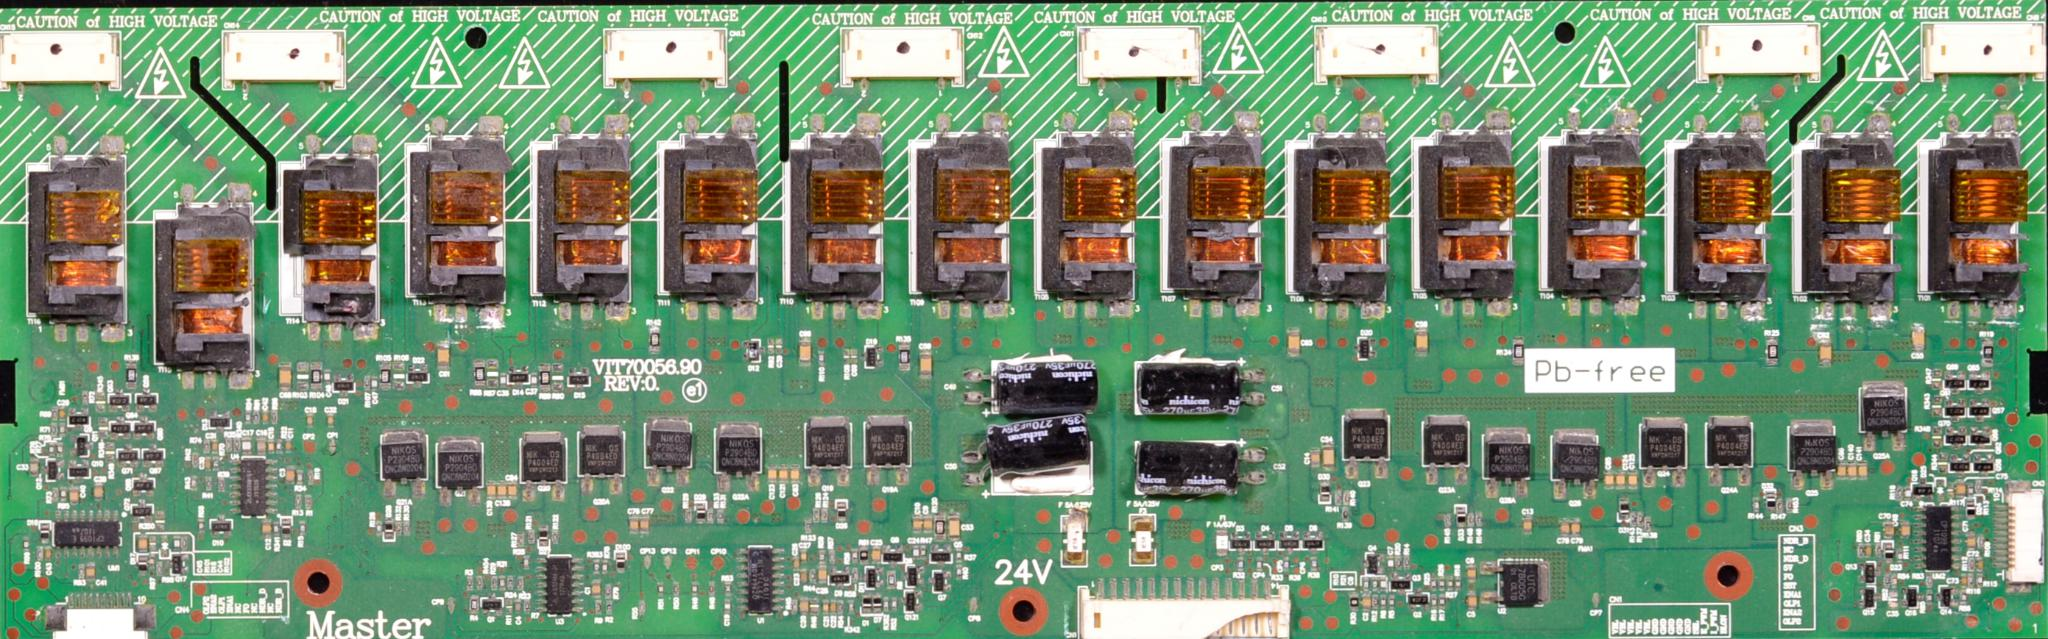Capacitor Jumper: (980, 421, 1093, 494), (1132, 442, 1259, 500), (981, 359, 1101, 418), (1138, 362, 1267, 414), (1910, 323, 1924, 355), (921, 352, 935, 382), (434, 345, 451, 370), (1818, 342, 1834, 369), (1415, 328, 1429, 355), (1287, 328, 1301, 353), (278, 365, 293, 389), (947, 517, 964, 538), (588, 578, 603, 598), (799, 337, 812, 362), (1569, 516, 1583, 537), (1323, 443, 1335, 468), (1307, 447, 1320, 469), (1557, 516, 1569, 538), (1886, 589, 1899, 609), (1951, 481, 1968, 495), (1881, 520, 1895, 537), (1463, 566, 1479, 580), (85, 561, 95, 582), (1614, 468, 1626, 486), (1627, 470, 1639, 489), (1520, 515, 1532, 533), (910, 516, 922, 534), (260, 517, 272, 536), (1360, 591, 1371, 609), (27, 457, 40, 473), (1963, 531, 1976, 546), (1464, 592, 1477, 608), (485, 482, 496, 499), (496, 482, 508, 499), (627, 515, 639, 532), (922, 516, 934, 533), (1604, 468, 1613, 489), (136, 533, 146, 551), (789, 465, 801, 481), (1847, 459, 1857, 476), (285, 465, 295, 482), (765, 465, 777, 480), (1378, 575, 1390, 589), (722, 597, 734, 612), (912, 548, 922, 563), (1836, 457, 1846, 474), (778, 467, 788, 483), (818, 565, 827, 582), (171, 536, 182, 550), (529, 374, 538, 389), (325, 412, 334, 427), (69, 487, 78, 503), (1899, 520, 1908, 536), (1394, 551, 1401, 570), (799, 597, 808, 613), (260, 410, 270, 423), (94, 482, 102, 499), (871, 545, 879, 562), (320, 369, 329, 383), (819, 600, 828, 614), (850, 349, 858, 365), (212, 438, 219, 453), (1859, 460, 1866, 476), (508, 481, 516, 497), (204, 456, 213, 469), (1958, 572, 1967, 585), (499, 372, 507, 387), (306, 413, 315, 425), (775, 338, 781, 354), (59, 406, 65, 422), (1403, 554, 1409, 570), (268, 439, 274, 453), (44, 545, 51, 559), (799, 549, 806, 562), (515, 601, 521, 614), (285, 440, 293, 451), (1865, 542, 1870, 558), (371, 376, 377, 388), (640, 516, 647, 528), (829, 602, 836, 614), (1977, 558, 1983, 571), (793, 555, 799, 565), (801, 571, 805, 582)
IC: (739, 542, 782, 618), (1913, 503, 1960, 571), (54, 511, 120, 558), (537, 554, 583, 617), (231, 456, 276, 516), (1497, 555, 1549, 606)
Resistor Jumper: (1762, 336, 1782, 369), (1979, 338, 1994, 369), (486, 361, 500, 388), (380, 361, 393, 389), (311, 362, 324, 391), (296, 363, 310, 392), (537, 365, 551, 391), (551, 365, 564, 393), (393, 361, 405, 389), (125, 365, 138, 389), (1749, 495, 1762, 520), (474, 359, 486, 385), (649, 327, 661, 352), (935, 516, 947, 541), (1930, 393, 1942, 417), (897, 342, 909, 365), (1930, 427, 1944, 447), (1937, 453, 1947, 476), (1347, 591, 1360, 608), (104, 440, 115, 461), (98, 417, 110, 435), (1334, 487, 1344, 507), (1627, 510, 1638, 529), (1894, 544, 1904, 563), (1236, 554, 1249, 570), (1307, 553, 1318, 572), (95, 389, 104, 412), (1975, 531, 1985, 549), (1358, 575, 1370, 591), (402, 519, 411, 538), (1437, 595, 1446, 614), (1932, 370, 1942, 387), (1637, 508, 1644, 531), (859, 546, 869, 565), (1386, 551, 1395, 570), (469, 596, 478, 614), (841, 348, 852, 363), (1340, 508, 1351, 524), (1853, 542, 1864, 558), (1253, 555, 1263, 571), (1925, 588, 1933, 609), (1428, 595, 1438, 610), (765, 338, 775, 355), (1341, 489, 1351, 506), (1465, 511, 1475, 528), (1642, 515, 1651, 532), (22, 536, 31, 553), (807, 568, 816, 585), (887, 568, 896, 585), (505, 574, 515, 591), (724, 580, 733, 597), (306, 491, 313, 511), (197, 516, 205, 536), (188, 476, 197, 491), (293, 493, 300, 511), (850, 546, 858, 565), (828, 548, 836, 566), (1280, 555, 1289, 571), (1309, 557, 1318, 572), (1429, 578, 1438, 593), (691, 582, 700, 597), (1959, 587, 1967, 605), (596, 600, 605, 615), (639, 601, 648, 617), (307, 468, 313, 489), (1475, 510, 1481, 531), (1369, 575, 1379, 588), (1371, 591, 1378, 612), (225, 435, 232, 452), (51, 486, 59, 503), (519, 531, 526, 548), (499, 574, 507, 591), (1388, 595, 1396, 612), (505, 597, 513, 614), (204, 476, 213, 490), (217, 478, 226, 493), (818, 549, 827, 563), (953, 566, 963, 580), (475, 575, 485, 589), (394, 517, 401, 537), (1446, 574, 1452, 593), (1454, 574, 1460, 593), (232, 436, 240, 452), (274, 436, 282, 452), (1967, 478, 1975, 494), (59, 486, 67, 502), (811, 507, 819, 523), (375, 520, 383, 536), (1872, 541, 1880, 557), (77, 562, 85, 578), (852, 566, 859, 582), (674, 580, 682, 596), (816, 352, 825, 365), (528, 529, 537, 542), (590, 559, 600, 572), (883, 596, 889, 614), (1439, 572, 1445, 595), (50, 421, 57, 435), (1895, 486, 1903, 500), (822, 507, 829, 521), (717, 507, 725, 521), (1891, 572, 1899, 587), (1967, 574, 1975, 588), (465, 575, 473, 589), (515, 575, 522, 589), (707, 579, 714, 593), (1775, 497, 1782, 514), (921, 544, 927, 561), (657, 580, 664, 597), (524, 597, 530, 614), (1379, 592, 1384, 613), (81, 391, 89, 404), (51, 406, 59, 419), (251, 412, 259, 425), (298, 469, 304, 485), (1974, 480, 1981, 493), (273, 520, 280, 536), (550, 529, 558, 542), (1976, 574, 1984, 587), (891, 597, 897, 613), (605, 601, 613, 614), (811, 601, 819, 614), (1445, 511, 1450, 529), (59, 422, 65, 436), (202, 438, 209, 452), (299, 520, 306, 534), (956, 549, 963, 563), (491, 576, 498, 591), (803, 521, 811, 533), (35, 546, 43, 558), (603, 585, 611, 597), (193, 451, 199, 468), (48, 442, 55, 455), (1967, 558, 1974, 571), (601, 558, 607, 571), (155, 562, 162, 575), (57, 442, 63, 457), (1785, 498, 1791, 514), (182, 536, 187, 551), (686, 508, 692, 520), (839, 601, 846, 610), (246, 412, 251, 425), (849, 597, 853, 614), (364, 376, 370, 388), (707, 508, 712, 520)
Transistor: (713, 422, 764, 474), (1421, 414, 1471, 468), (1481, 427, 1531, 481), (577, 423, 626, 477), (1638, 418, 1688, 469), (1550, 427, 1600, 478), (1859, 380, 1907, 433), (1787, 419, 1835, 472), (435, 435, 483, 487), (1704, 416, 1752, 469), (1341, 410, 1390, 461), (863, 416, 910, 468), (520, 431, 567, 483), (805, 417, 852, 468), (644, 417, 691, 468), (380, 429, 427, 480), (1941, 399, 1967, 418), (901, 588, 921, 614), (129, 502, 159, 519), (925, 546, 955, 563), (933, 567, 950, 597), (1388, 574, 1416, 592), (831, 568, 856, 588), (1940, 584, 1957, 612), (1964, 402, 1993, 418), (1966, 371, 1992, 388), (1910, 481, 1936, 498), (1859, 583, 1876, 608), (1970, 427, 1993, 444), (1971, 457, 1994, 474), (1364, 551, 1381, 575), (903, 565, 920, 588), (1903, 585, 1920, 609), (863, 565, 879, 589), (142, 447, 165, 464), (1950, 459, 1972, 476), (132, 476, 154, 493), (1941, 431, 1967, 446), (76, 431, 90, 457), (1860, 561, 1876, 584), (135, 391, 157, 406), (1407, 589, 1429, 605), (1945, 372, 1964, 389), (135, 419, 155, 435), (882, 548, 906, 561), (481, 597, 503, 612), (69, 413, 93, 425), (111, 421, 132, 434), (118, 448, 138, 461), (171, 555, 184, 576), (68, 467, 90, 478), (111, 396, 131, 408), (47, 460, 57, 478)
